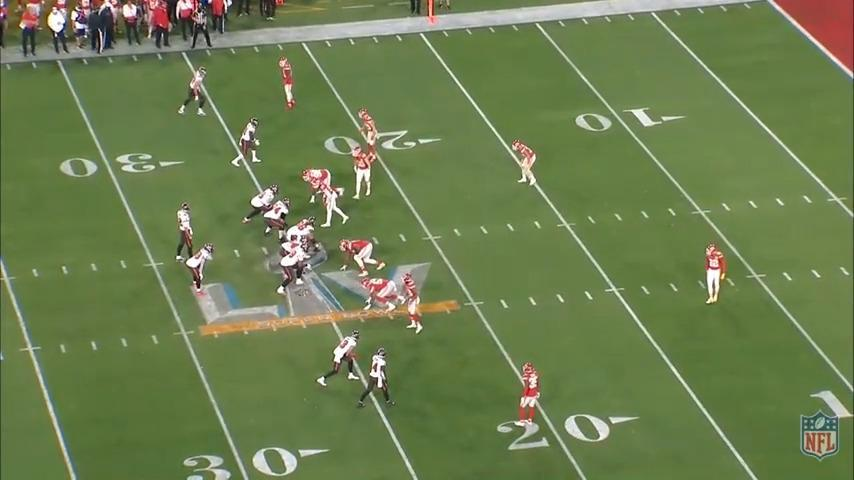player: (316, 328, 363, 390), (357, 347, 396, 411), (510, 361, 539, 432), (229, 115, 265, 171), (177, 64, 212, 119), (341, 240, 390, 278), (277, 244, 312, 297), (313, 175, 347, 229), (701, 242, 728, 307), (398, 268, 424, 335), (274, 56, 302, 115), (359, 276, 402, 313), (299, 166, 340, 203), (188, 243, 216, 297), (242, 186, 279, 226), (176, 202, 198, 267), (512, 138, 540, 189), (352, 145, 376, 201), (358, 106, 382, 162), (263, 198, 291, 244), (280, 217, 315, 250), (278, 234, 311, 257)
ref: (188, 6, 212, 52)
